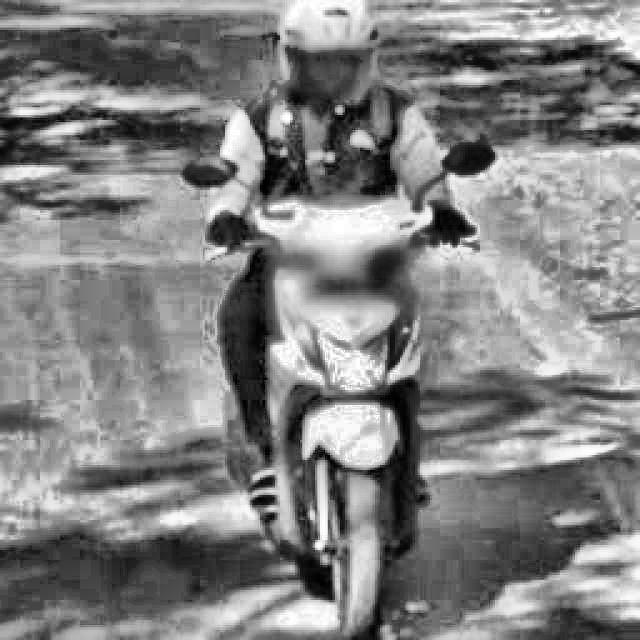motorcycle: (183, 124, 495, 640)
